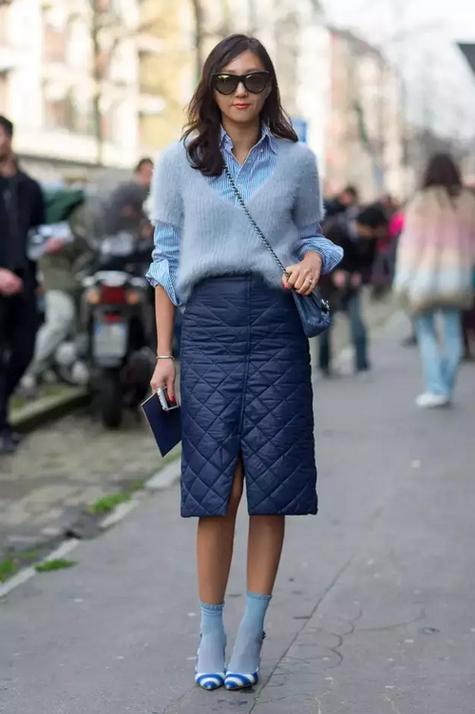up: (143, 23, 335, 700)
